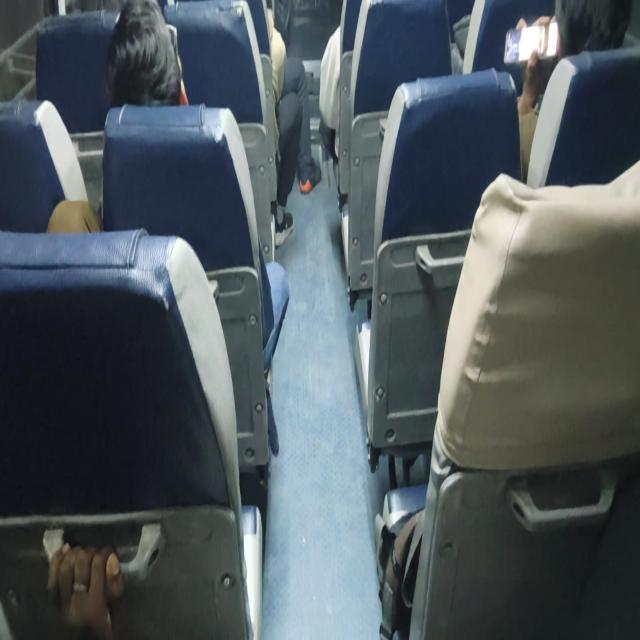person: (100, 0, 196, 111), (538, 0, 631, 60)
